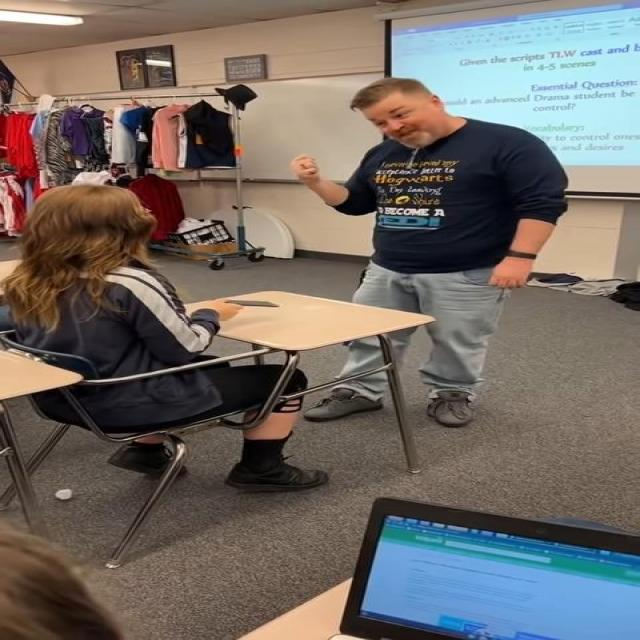NO-Mask: (364, 93, 435, 150)
